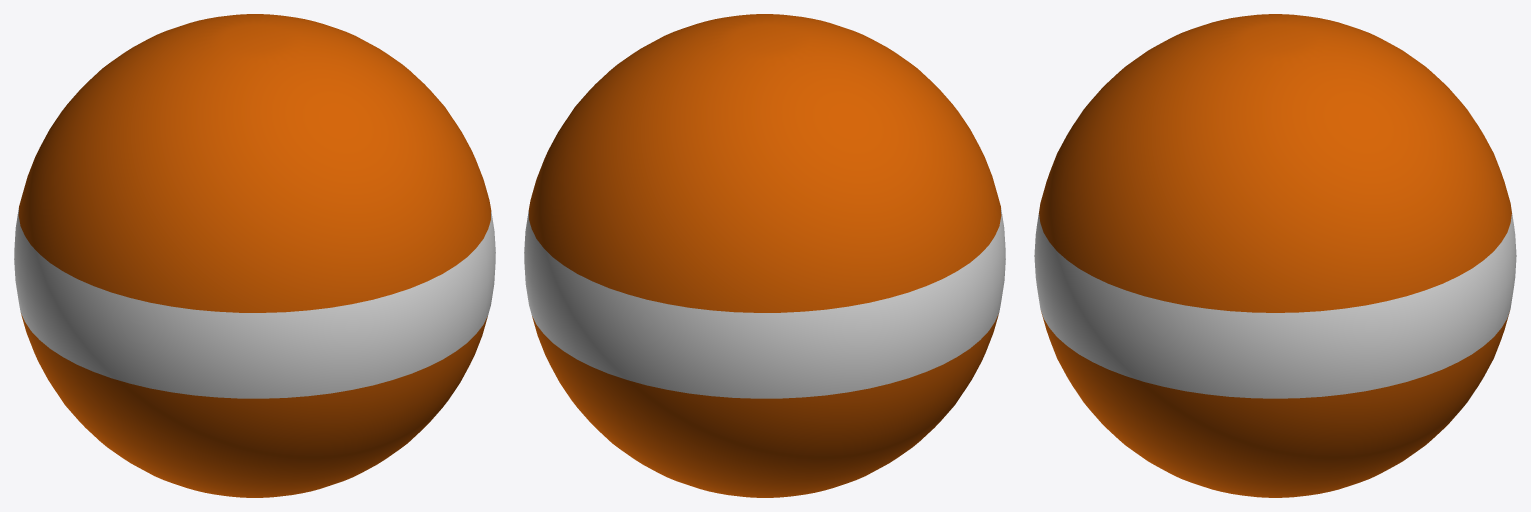
Rendered from plain_marker.dae.
The picture shows the model from 3 angles, left to right: view 1: azimuth 30°, elevation 25°; view 2: azimuth 150°, elevation 25°; view 3: azimuth 270°, elevation 25°; orthographic projection.
Visible parts, largest first — view 1: Bouy; view 2: Bouy; view 3: Bouy.
Part boxes in pixels (<box>): Bouy: <box>14,14,495,497</box>; Bouy: <box>524,14,1005,497</box>; Bouy: <box>1034,14,1516,497</box>.
Size of the model in its own units: 1.98 by 1.98 by 1.98.
